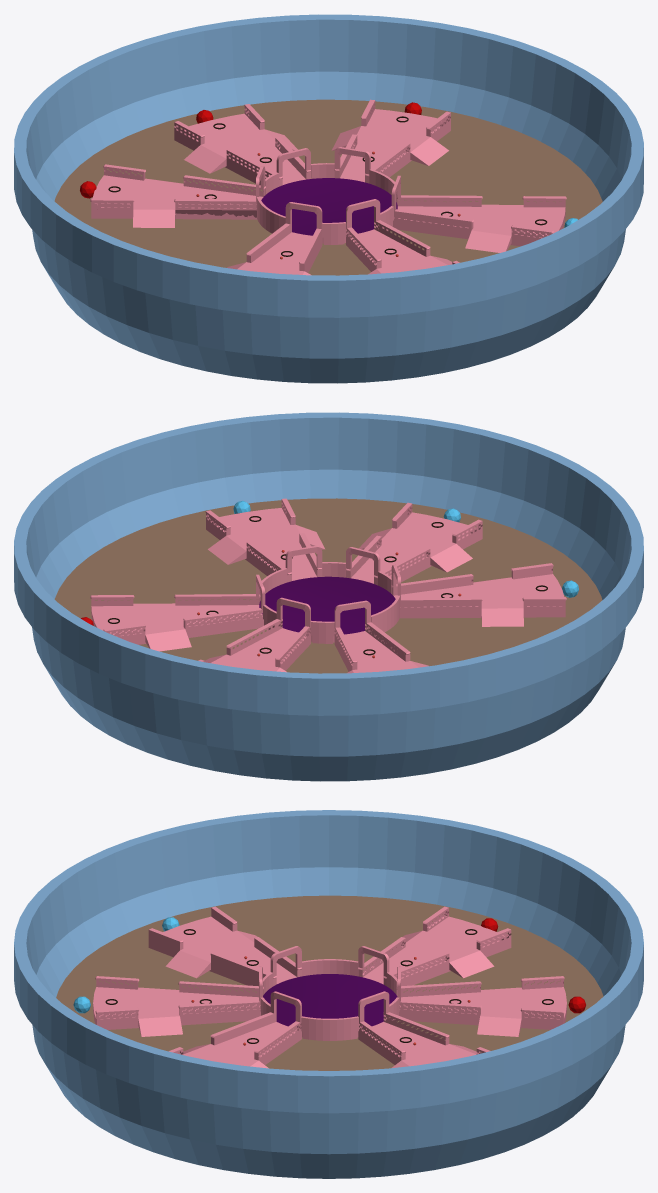
Rendered from map layout (1).fbx.
3 views of the same model, one above another, from view 1: azimuth 30°, elevation 25°; view 2: azimuth 150°, elevation 25°; view 3: azimuth 270°, elevation 25° (orthographic).
Visible parts, largest first — view 1: Wall, Lanes, Ground, Final Turret; view 2: Wall, Lanes, Ground, Final Turret; view 3: Wall, Lanes, Ground, Final Turret.
Boxes of the visible parts, x1=… form: Wall: x1=14, y1=14, x2=643, y2=383; Lanes: x1=90, y1=99, x2=566, y2=275; Ground: x1=54, y1=99, x2=602, y2=275; Final Turret: x1=80, y1=102, x2=577, y2=227; Wall: x1=14, y1=412, x2=643, y2=781; Lanes: x1=90, y1=498, x2=566, y2=673; Ground: x1=54, y1=498, x2=602, y2=673; Final Turret: x1=81, y1=501, x2=578, y2=625; Wall: x1=14, y1=810, x2=643, y2=1178; Lanes: x1=93, y1=906, x2=566, y2=1068; Ground: x1=56, y1=895, x2=603, y2=1070; Final Turret: x1=73, y1=917, x2=585, y2=1013.
Size of the model in its own units: 22791 by 4750 by 22791.
